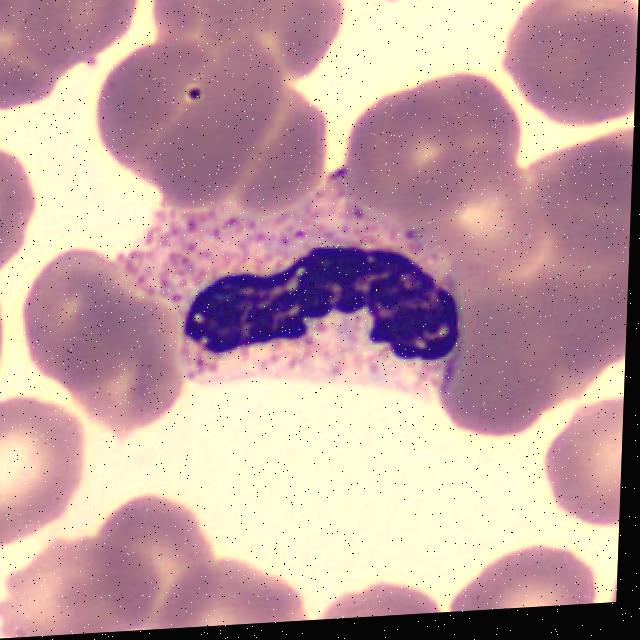neutrophil: (111, 166, 464, 411)
rbc: (432, 119, 633, 441), (104, 21, 287, 212), (70, 284, 184, 435), (403, 51, 534, 171), (23, 249, 124, 385), (426, 151, 534, 277), (11, 544, 154, 638), (353, 84, 457, 212), (225, 91, 329, 215), (0, 398, 83, 550), (528, 0, 639, 113), (113, 499, 214, 621), (208, 0, 344, 88), (544, 393, 624, 526), (469, 537, 595, 611), (0, 0, 83, 112), (177, 562, 308, 628), (155, 0, 261, 64), (337, 574, 442, 619), (63, 0, 146, 56), (0, 129, 34, 263), (0, 273, 9, 407), (356, 0, 469, 3)
